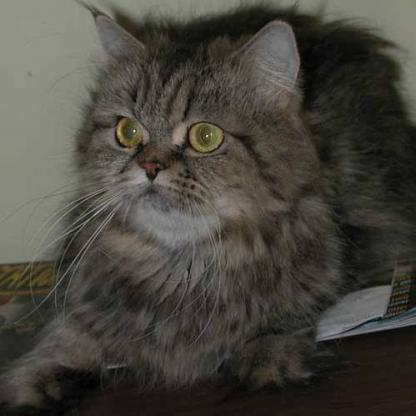cat: (60, 0, 324, 290)
